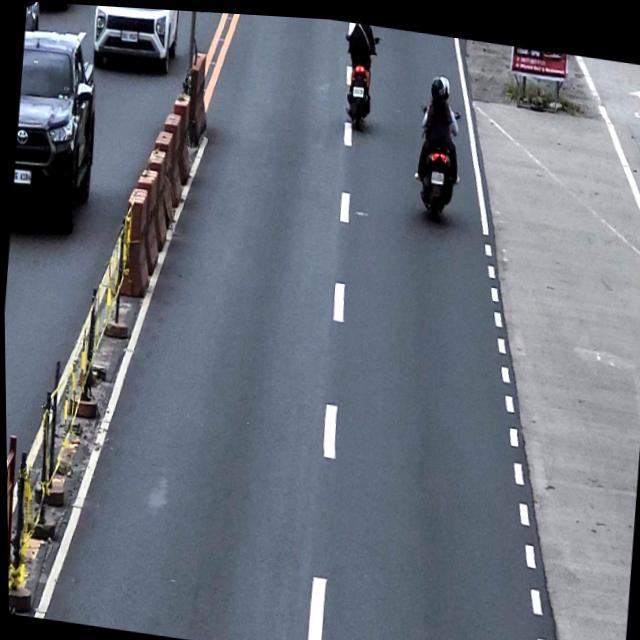Car: (8, 21, 104, 225), (89, 4, 181, 74)
License-Plate: (13, 168, 32, 186), (119, 27, 138, 42), (430, 164, 444, 180), (351, 80, 364, 94)
Motorcycle: (409, 98, 464, 217), (337, 26, 381, 128)
